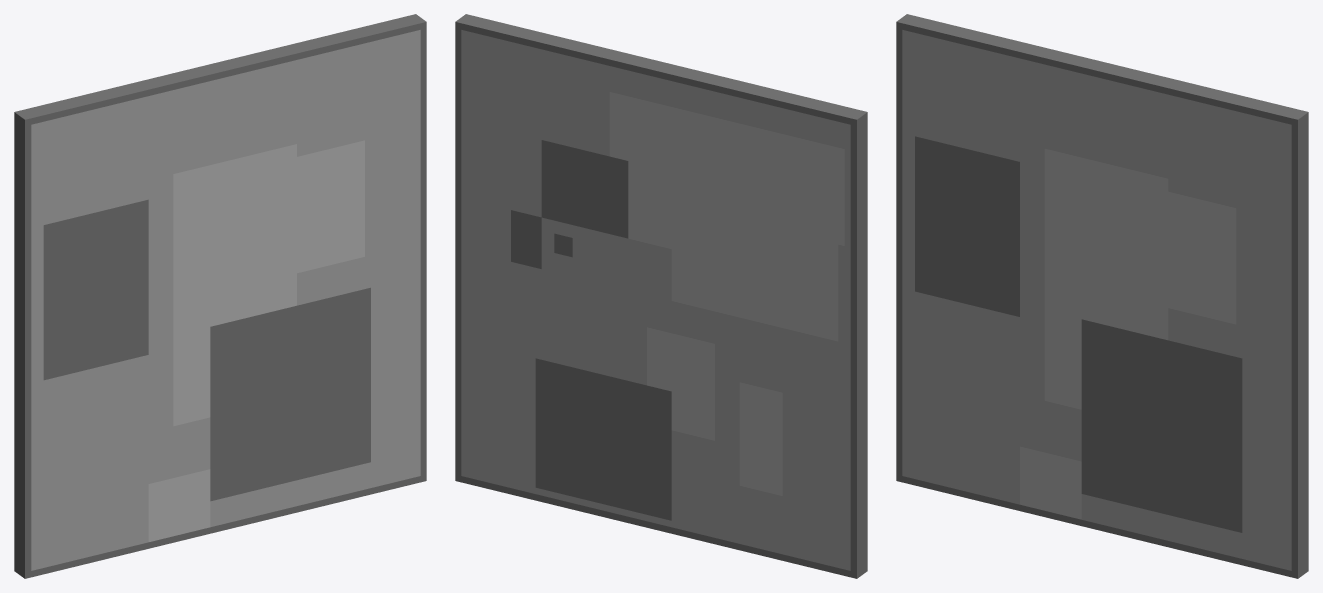
File: metal wall.obj
The picture shows the model from 3 angles, left to right: view 1: azimuth 30°, elevation 25°; view 2: azimuth 150°, elevation 25°; view 3: azimuth 330°, elevation 25°; orthographic projection.
Visible parts, largest first — view 1: metal wall; view 2: metal wall; view 3: metal wall.
Part boxes in pixels (x1=…): metal wall: x1=14, y1=14, x2=426, y2=578; metal wall: x1=455, y1=14, x2=867, y2=578; metal wall: x1=896, y1=14, x2=1308, y2=578.
Bounding box in the file's own units: 65 × 71 × 3.
Materials: 1 (1 with a texture image).
